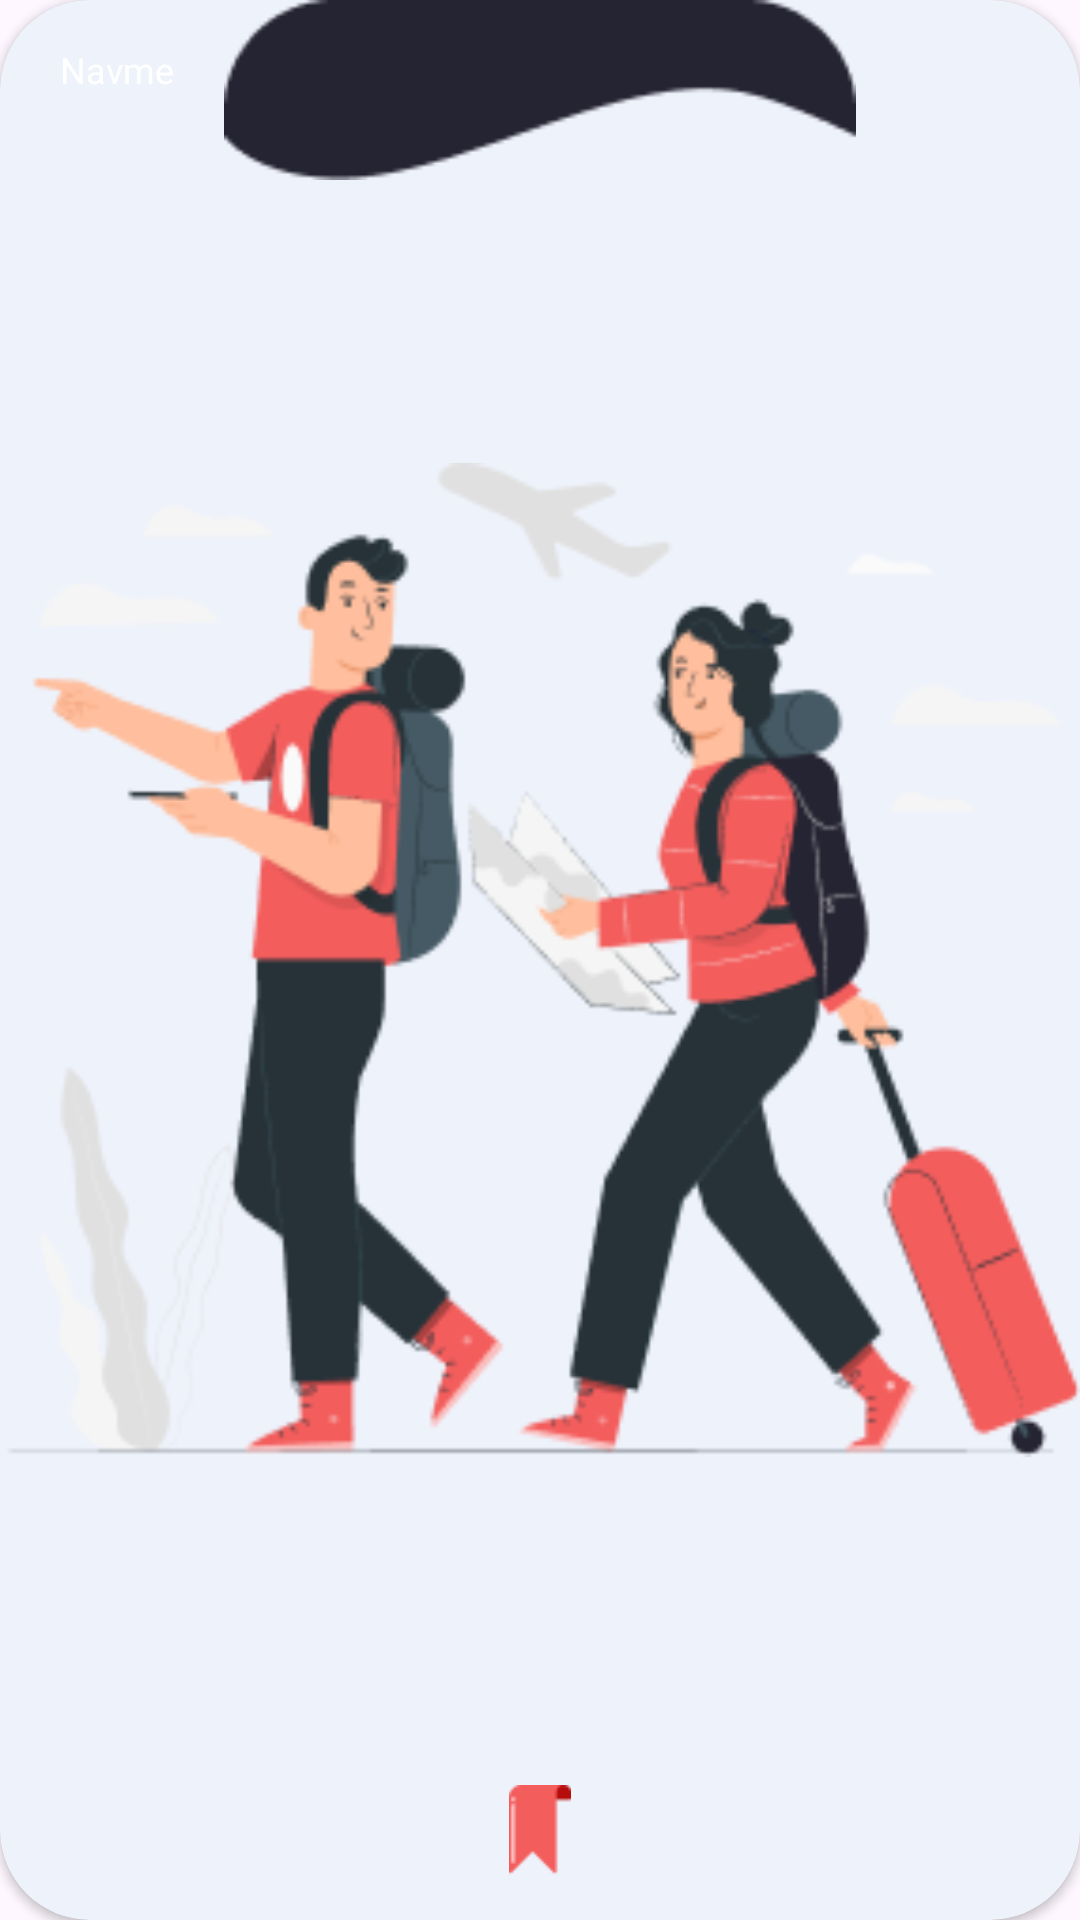

Screen size 1080 × 1920. Icon name, then its center in pixels as [x,y]:
bookmark: [540,1829]
